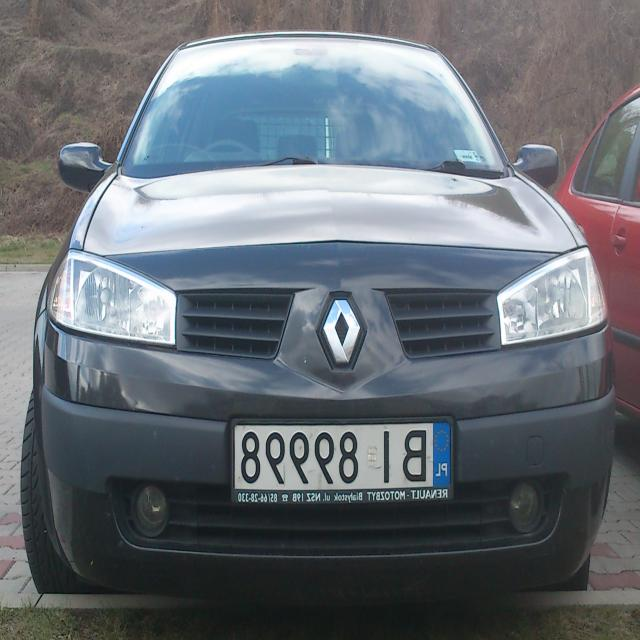pl_license_plate: (232, 420, 452, 490)
